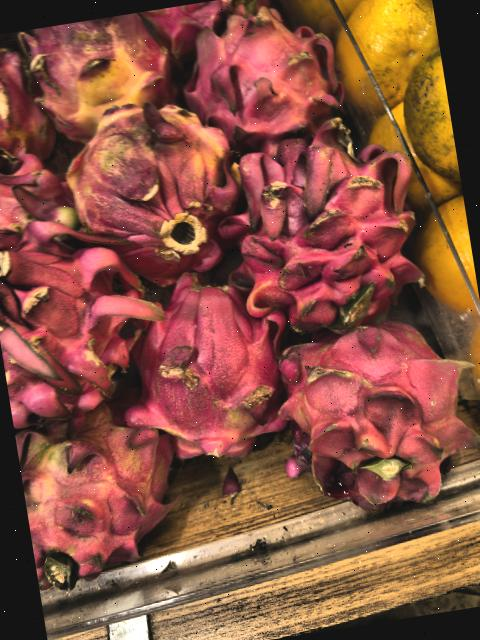buah-naga-belum-matang: (40, 84, 258, 284), (12, 388, 190, 584), (181, 0, 342, 142), (18, 10, 174, 132), (0, 145, 69, 243)
buah-naga-matang: (266, 292, 480, 513), (213, 106, 421, 329), (123, 266, 295, 468), (0, 202, 144, 412), (0, 29, 53, 176)
